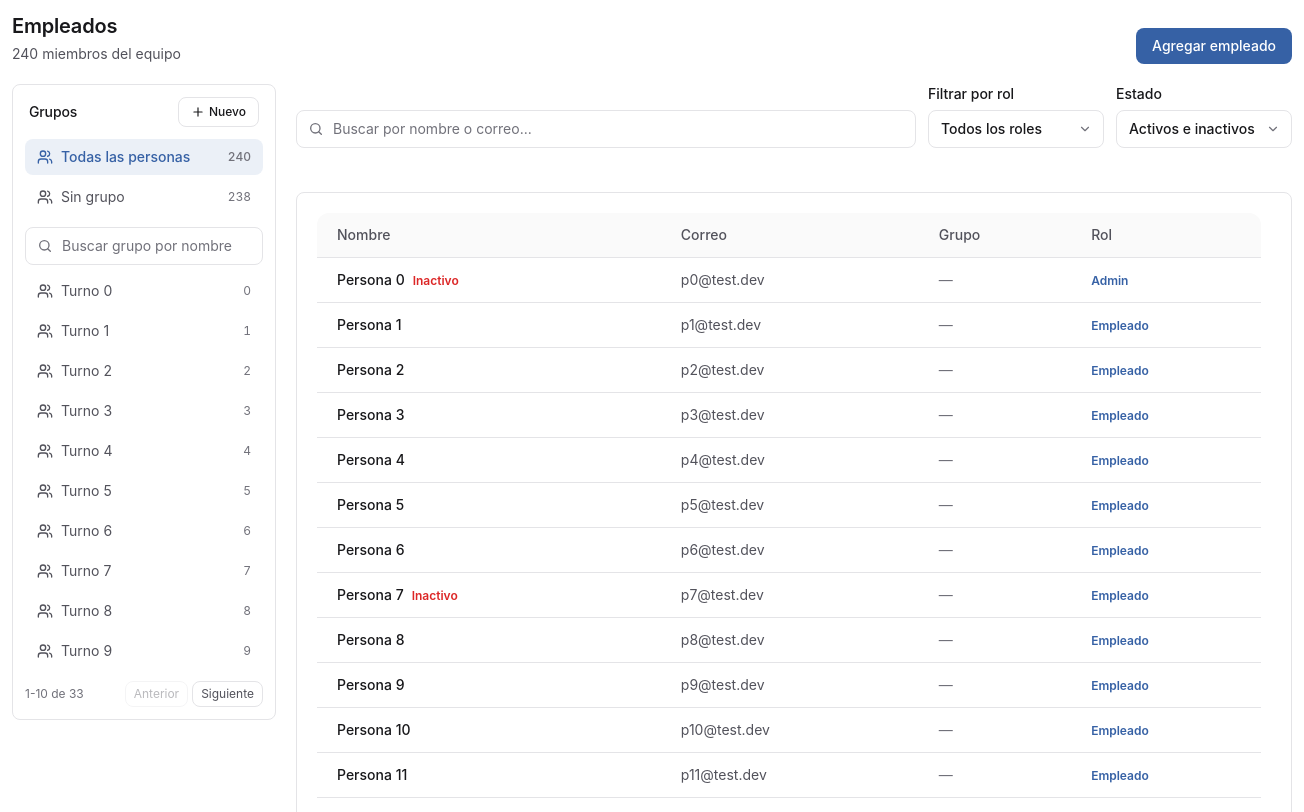
Scenario: the group rail at scale › searches groups on the server, not on the page already in hand
Type "delegacion" into the search field with placeholder "Buscar grupo por nombre". click: (144, 246)
box: 25,227 -> 263,265
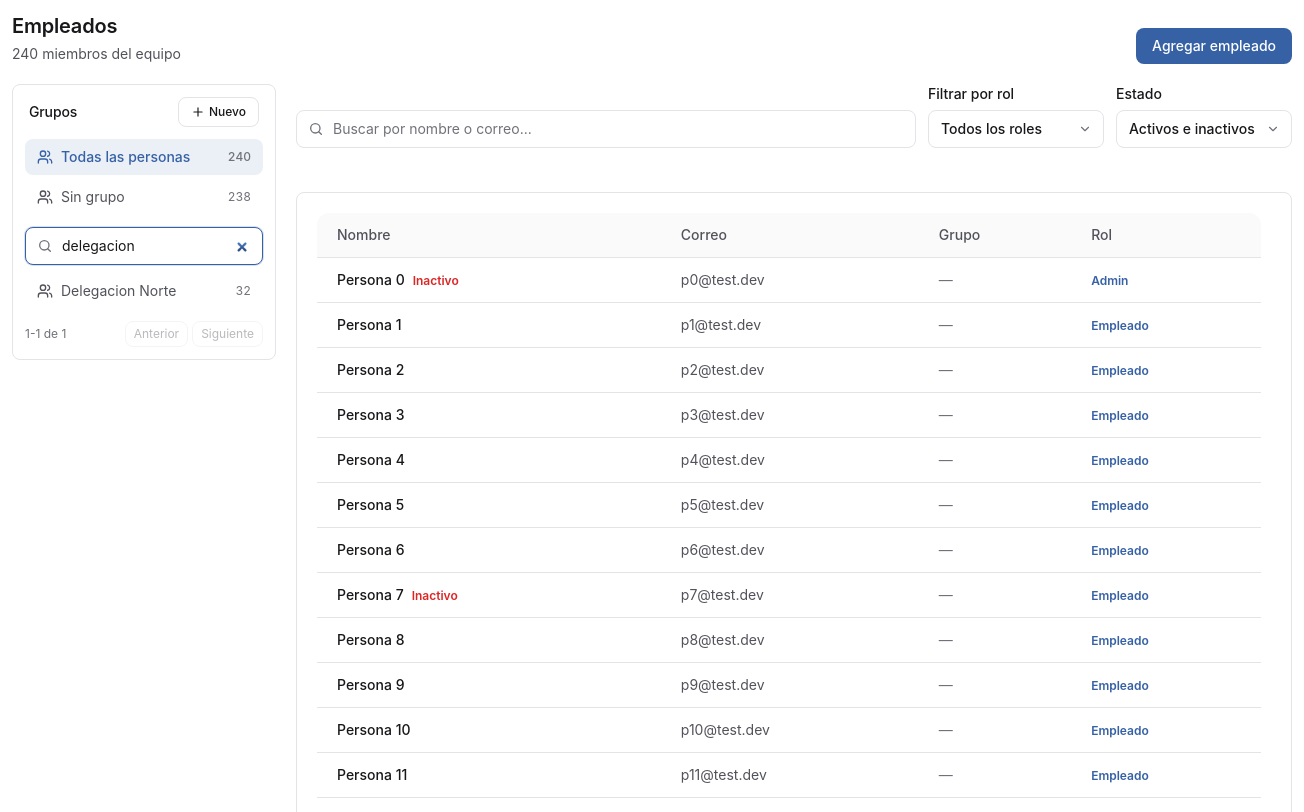
Check: the button "Delegacion Norte 32" is shown, box 25,273 -> 263,309
